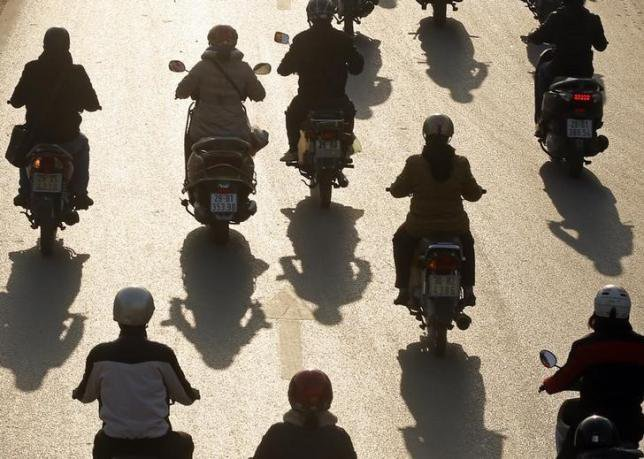helmet: (392, 107, 499, 198), (223, 365, 364, 426), (66, 283, 174, 358), (590, 274, 629, 345), (203, 25, 243, 57)
